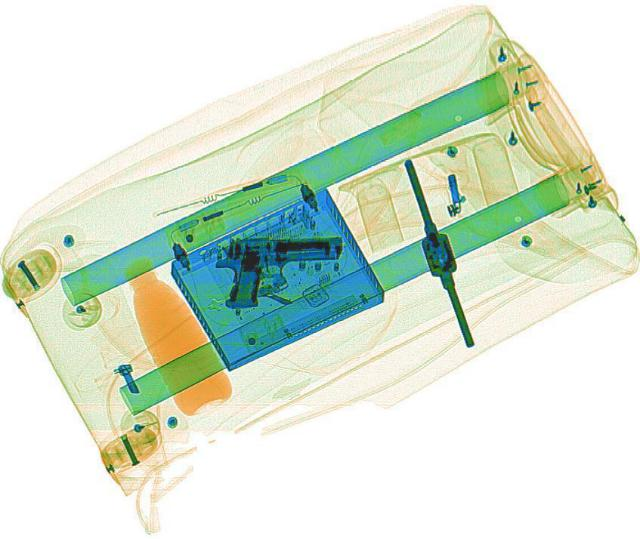Gun: (213, 235, 343, 306)
